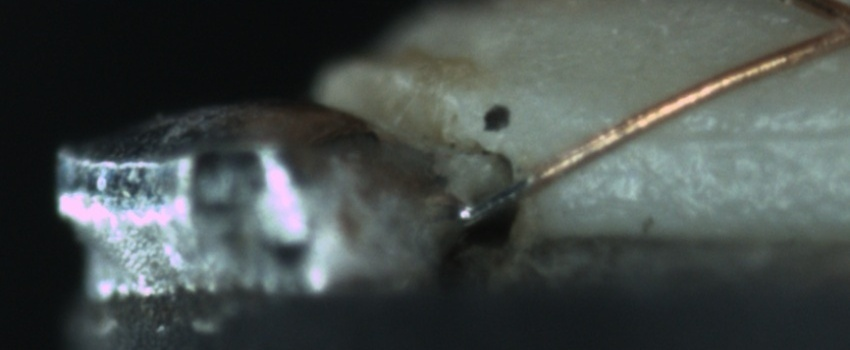CL: (797, 3, 850, 57)
DL: (609, 103, 848, 169)
TS: (452, 175, 524, 224)
